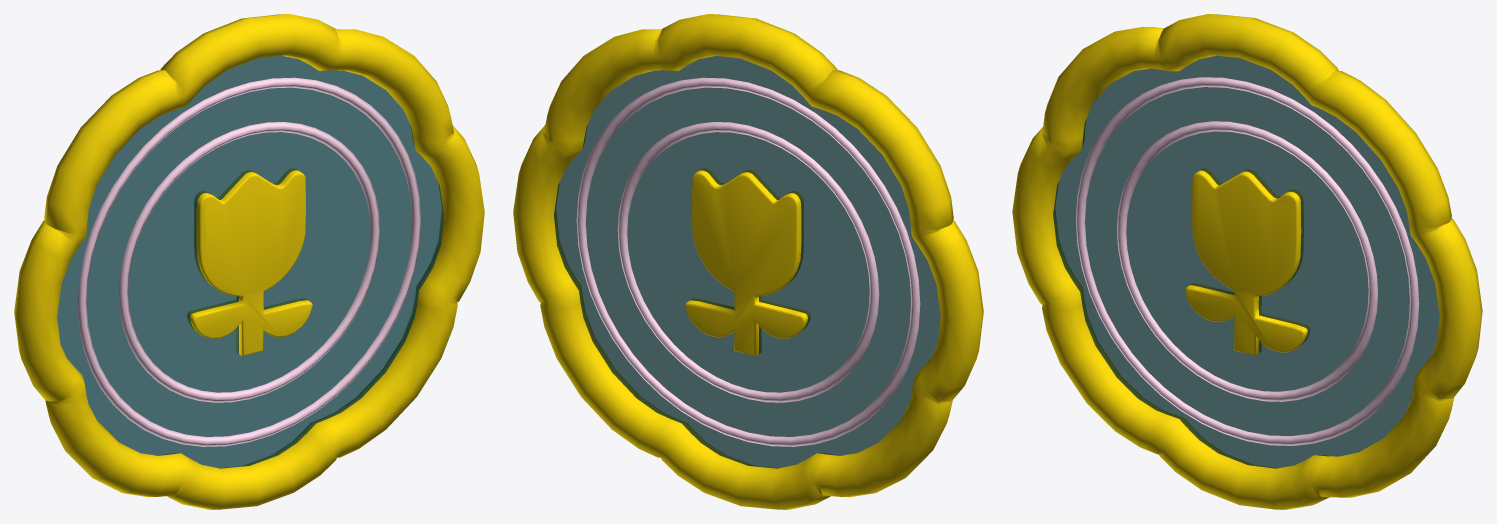
The model's file is GardenBadgeRem.glb.
3 renders of one model, left to right at view 1: azimuth 30°, elevation 25°; view 2: azimuth 150°, elevation 25°; view 3: azimuth 330°, elevation 25°, orthographic.
Size of the model in its own units: 5.13 by 5.13 by 0.4236.
